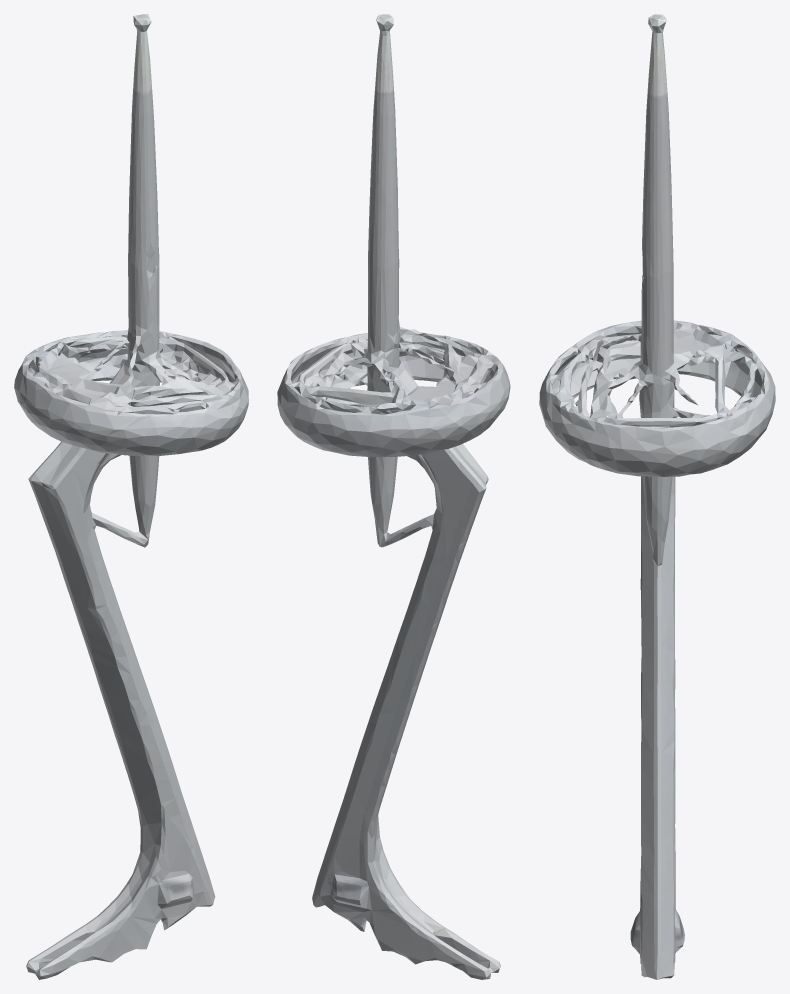
File: torre_montmelo.glb
3 renders of one model, left to right at view 1: azimuth 30°, elevation 25°; view 2: azimuth 150°, elevation 25°; view 3: azimuth 270°, elevation 25°, orthographic. The views are drawn at different scales.
Visible parts, largest first — view 1: tmp359pqo9p.ply; view 2: tmp359pqo9p.ply; view 3: tmp359pqo9p.ply.
Part boxes in pixels (x1,y1,x2,y2): tmp359pqo9p.ply: [14, 14, 248, 979]; tmp359pqo9p.ply: [277, 14, 510, 979]; tmp359pqo9p.ply: [539, 14, 775, 979].
Size of the model in its own units: 0.4512 by 1.99 by 0.4426.
Materials: 1 (1 with a texture image).
